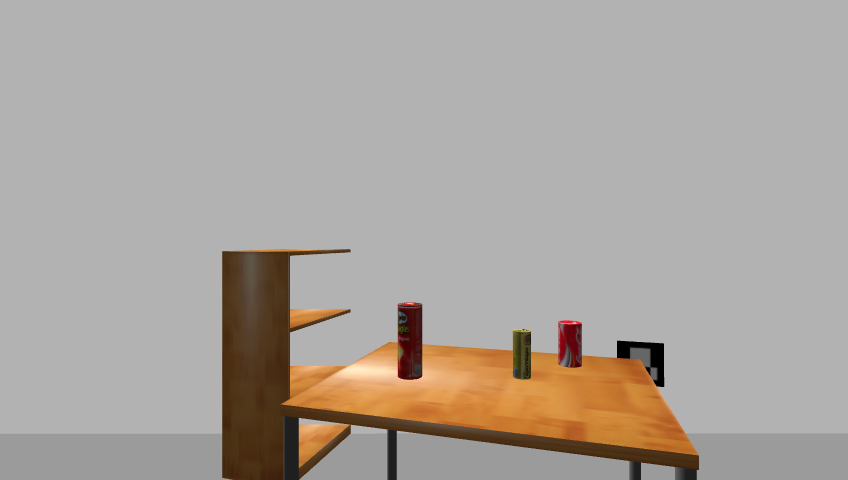aruco marker: (612, 338, 669, 391)
biscuits pack: (511, 329, 533, 381)
bookshelf: (216, 246, 357, 480)
coke can: (556, 320, 583, 369)
dinner table: (278, 340, 708, 480)
pringles can: (395, 302, 424, 382)
